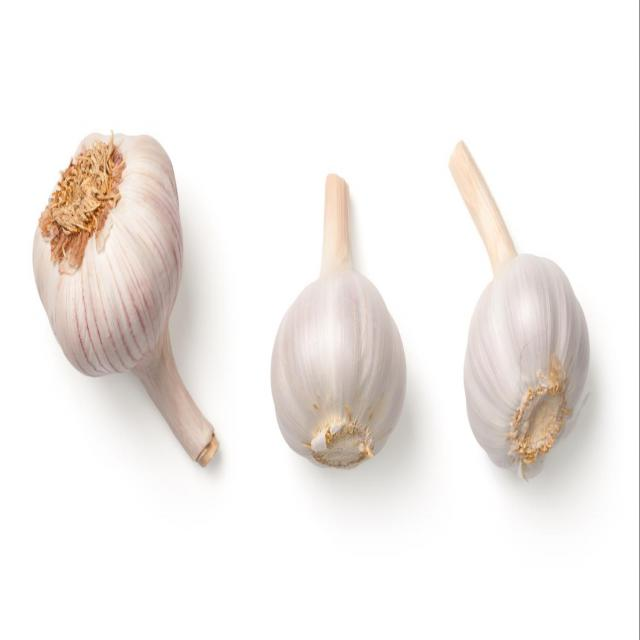garlic: (30, 124, 222, 472), (446, 135, 592, 486), (267, 166, 408, 472)
